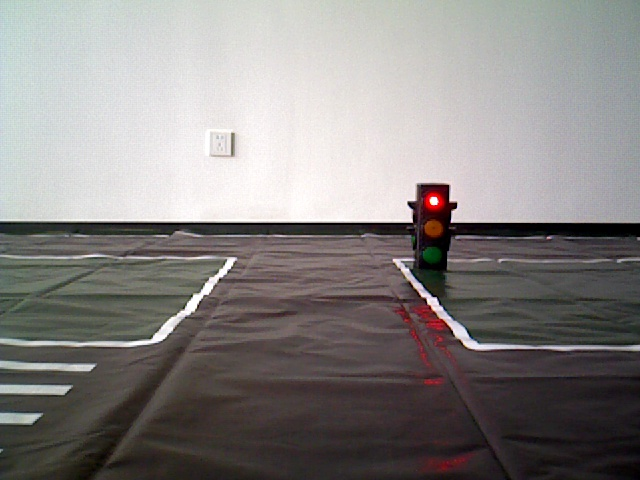red: (418, 183, 449, 267)
